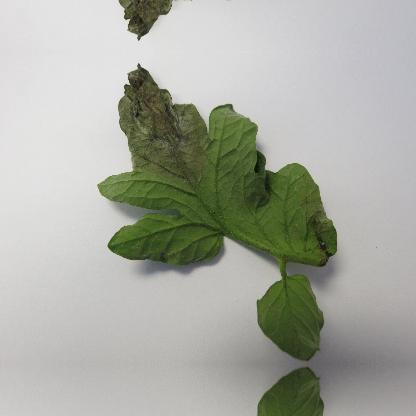Early-Blight: (104, 62, 233, 196), (272, 148, 368, 278), (104, 0, 233, 42)
